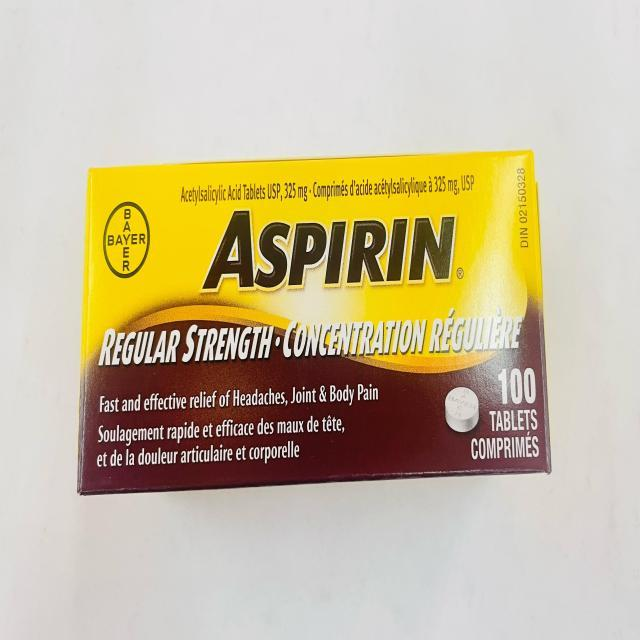Medicine Name: (194, 203, 459, 294)
